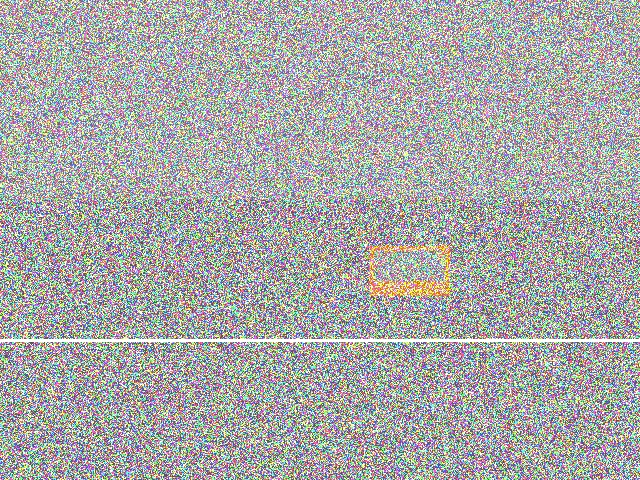bus: (140, 246, 239, 357)
car: (354, 377, 473, 448)
